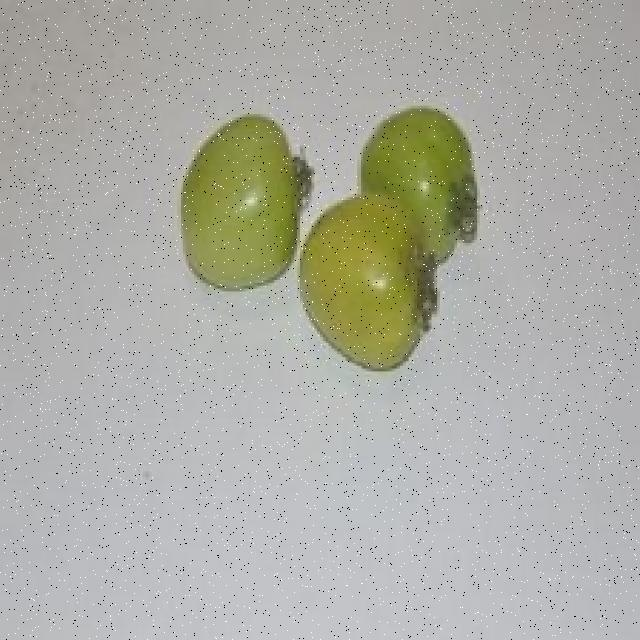Tomato: (156, 55, 304, 333), (342, 60, 514, 272), (272, 175, 428, 390)
